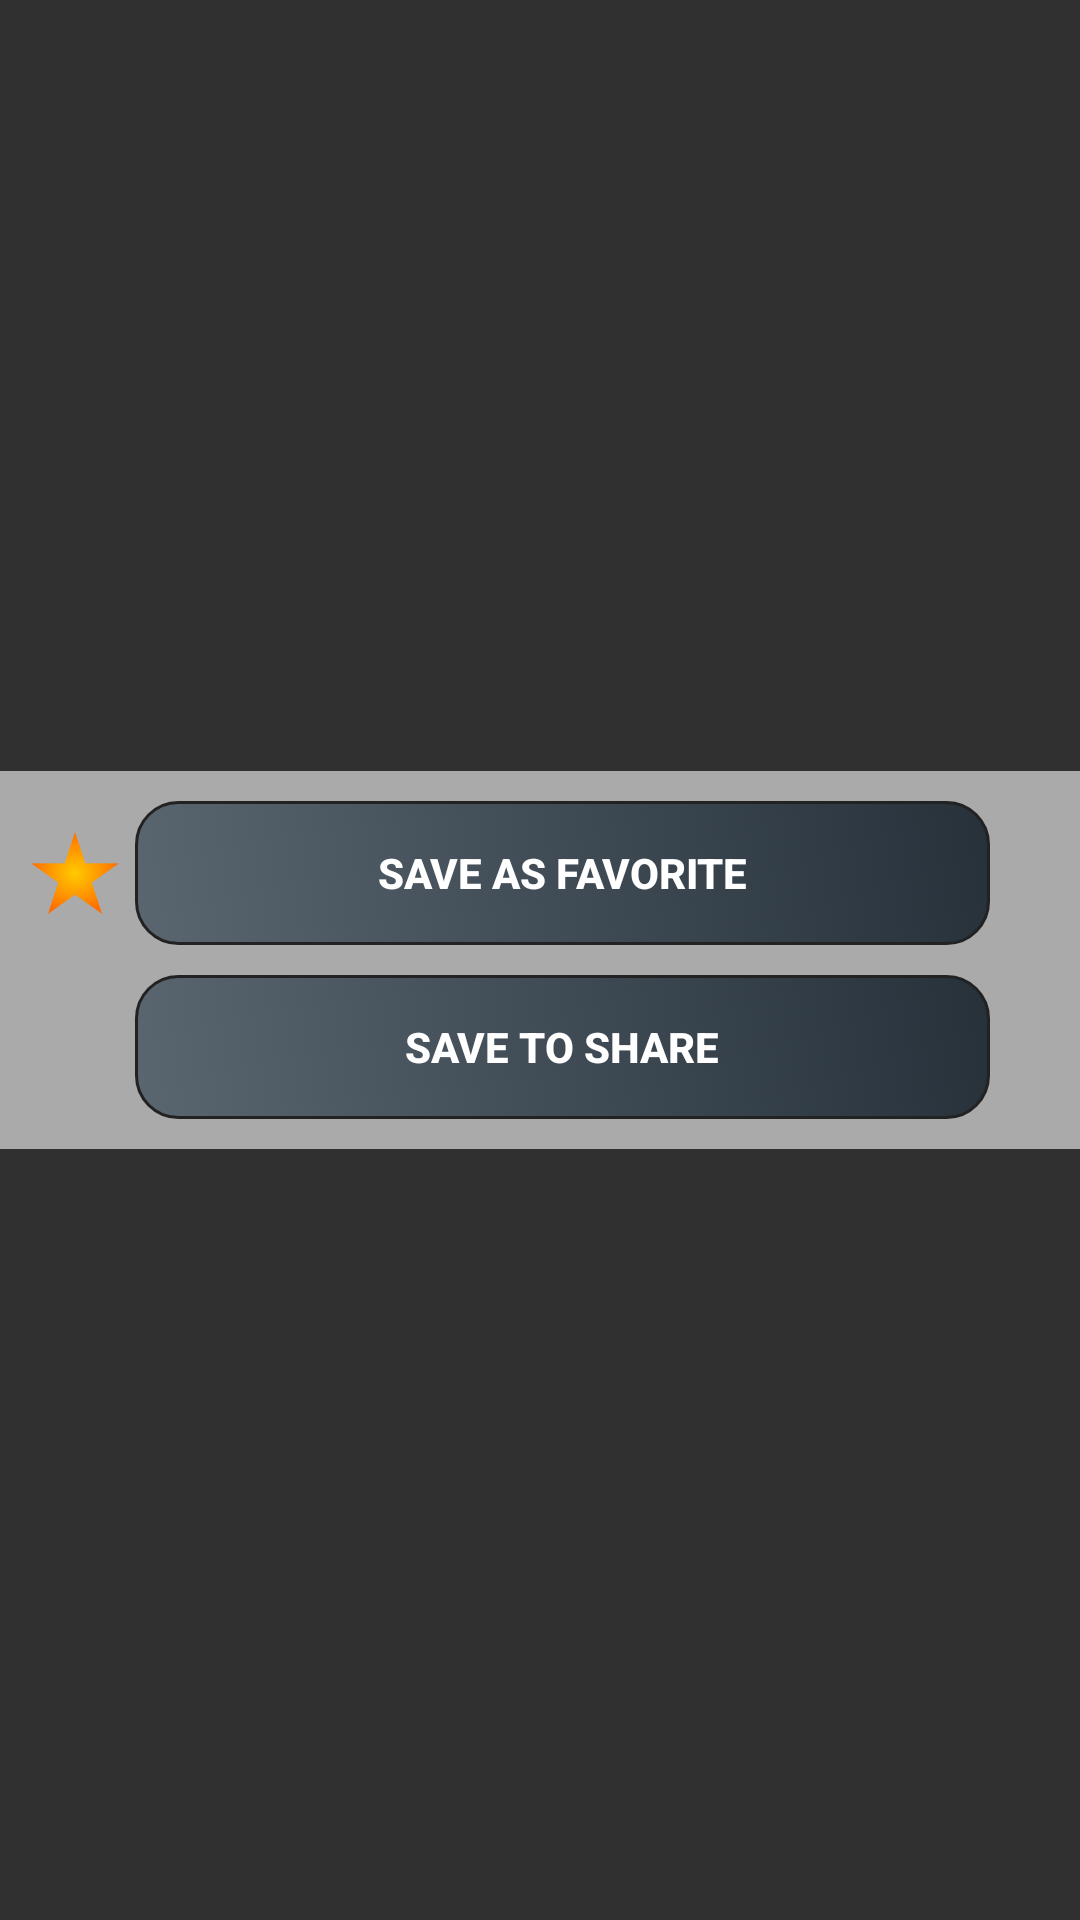

Icon bounding boxes for this 1080w x 1920h phone screenshot, format (x1,y1,x2,y2):
star: (31,833,119,914)
